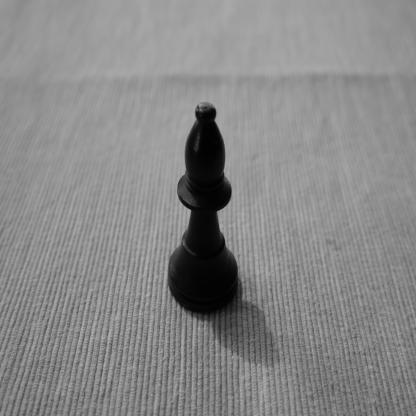black-bishop: (166, 100, 238, 316)
